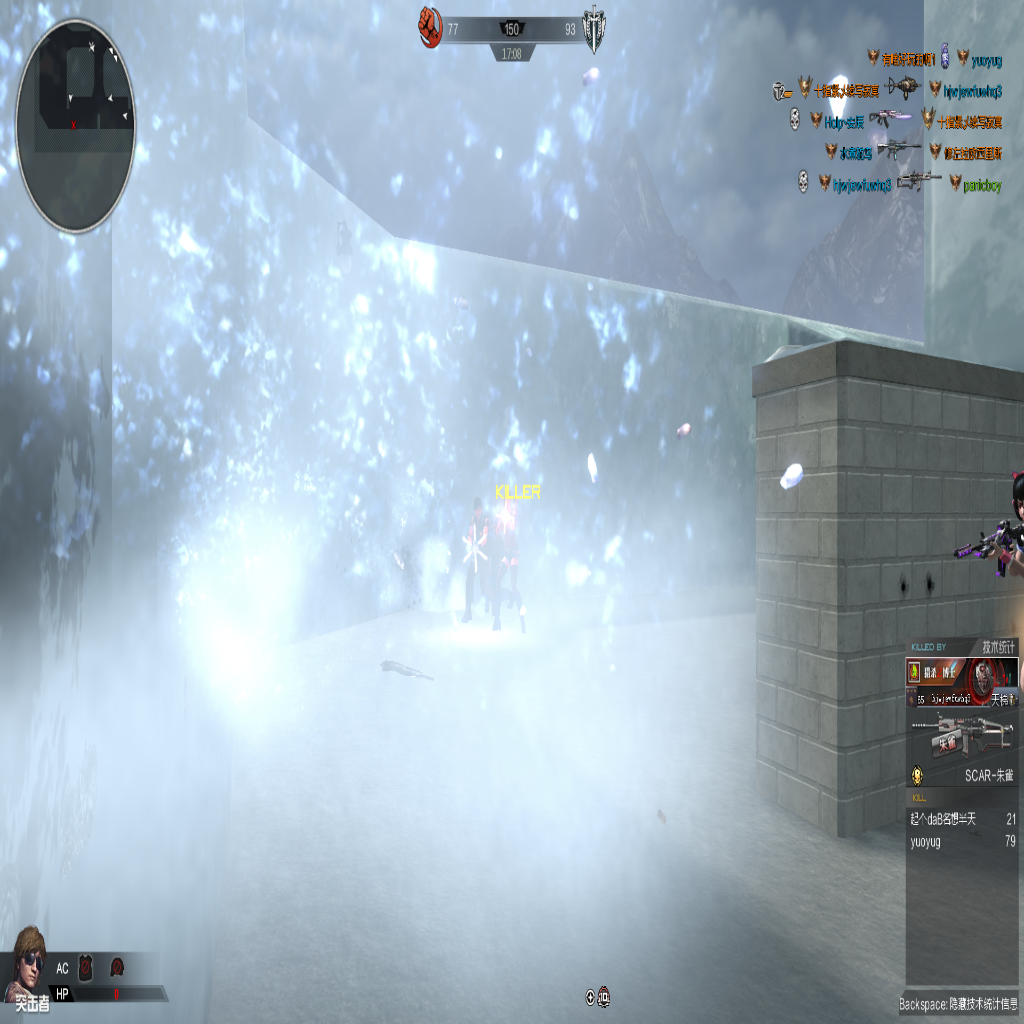ct: (486, 492, 515, 634), (501, 501, 528, 629), (461, 496, 487, 626)
